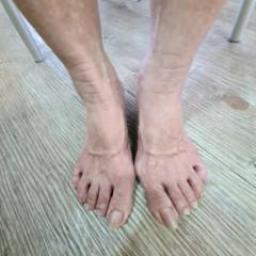Front View -Both Feet-: (42, 47, 230, 248)
